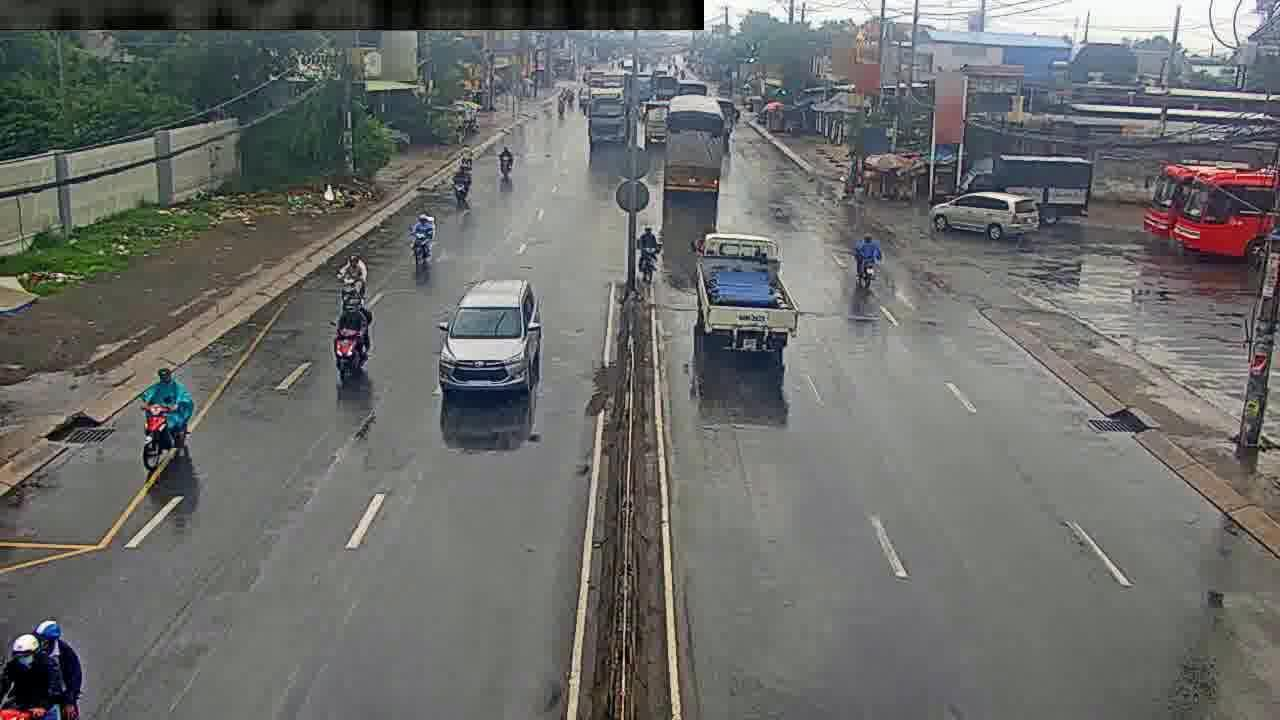8: (704, 243, 782, 343), (666, 127, 721, 197), (590, 84, 634, 146)
container: (449, 286, 534, 396)
motorbike: (9, 586, 82, 720), (142, 369, 188, 477), (332, 283, 373, 384), (334, 248, 370, 337), (410, 209, 437, 273), (855, 233, 880, 290), (638, 224, 661, 281), (454, 165, 469, 206), (500, 140, 514, 183), (460, 143, 475, 166)
